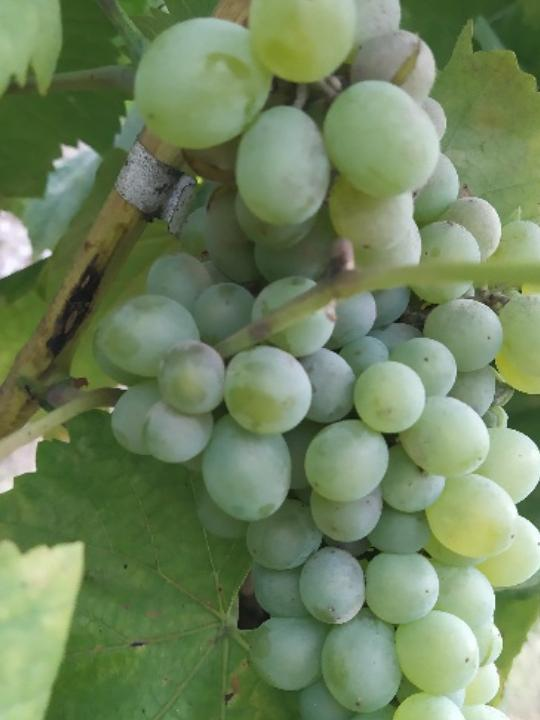grape: (100, 0, 540, 720)
